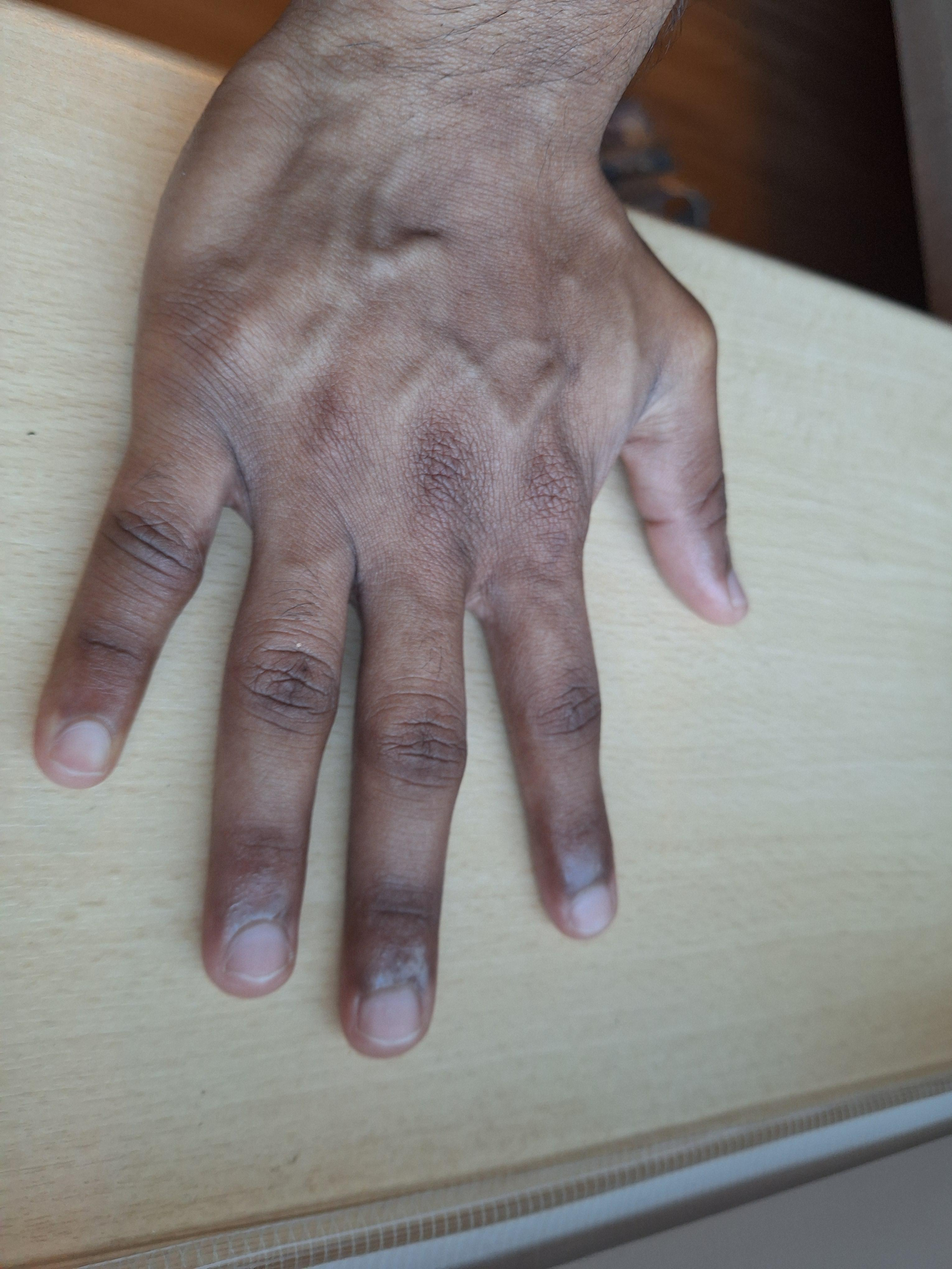Fingernail: (226, 922, 290, 985), (357, 989, 422, 1048), (49, 722, 110, 779), (572, 884, 613, 935), (728, 571, 750, 608)
